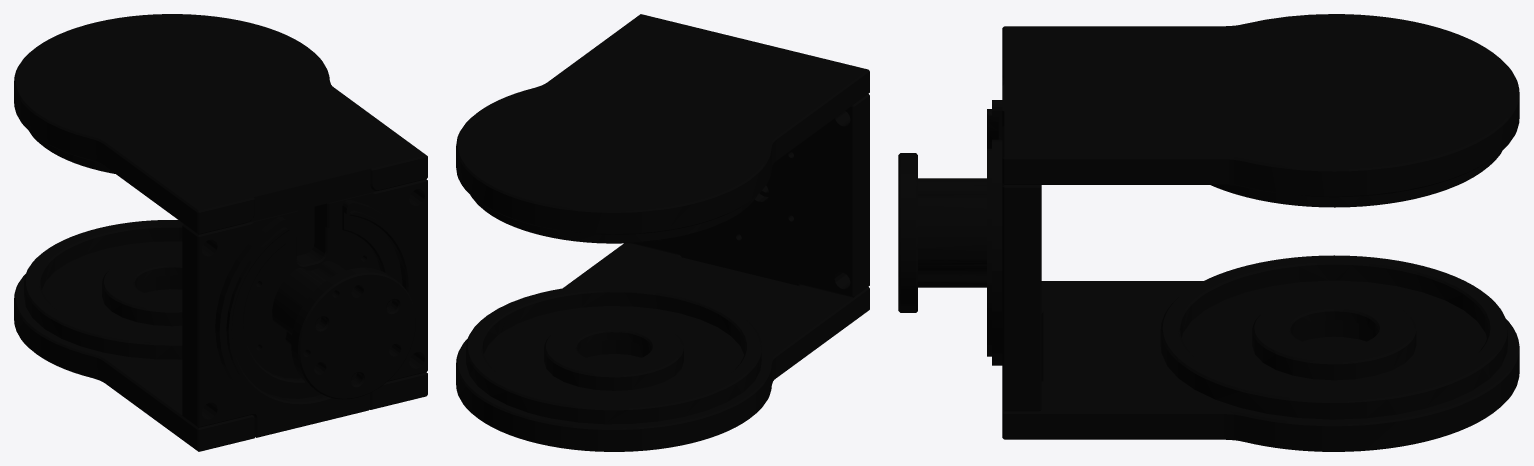
The model's file is steer_motor_link2.obj.
3 renders of one model, left to right at view 1: azimuth 30°, elevation 25°; view 2: azimuth 150°, elevation 25°; view 3: azimuth 270°, elevation 25°, orthographic. The views are drawn at different scales.
Visible parts, largest first — view 1: steer_motor_link2; view 2: steer_motor_link2; view 3: steer_motor_link2.
Part boxes in pixels (x1,y1,x2,y2): steer_motor_link2: (14,14,427,451); steer_motor_link2: (456,14,869,451); steer_motor_link2: (898,14,1519,451).
Size of the model in its own units: 0.0949 by 0.08 by 0.1591.
1 material, 1 textured.
